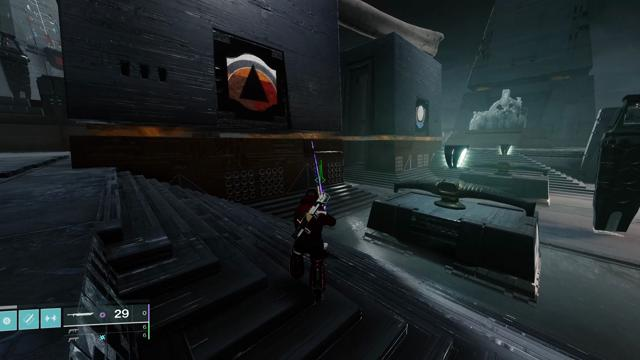pyramid: (227, 54, 277, 111)
traveler: (416, 105, 425, 128)
